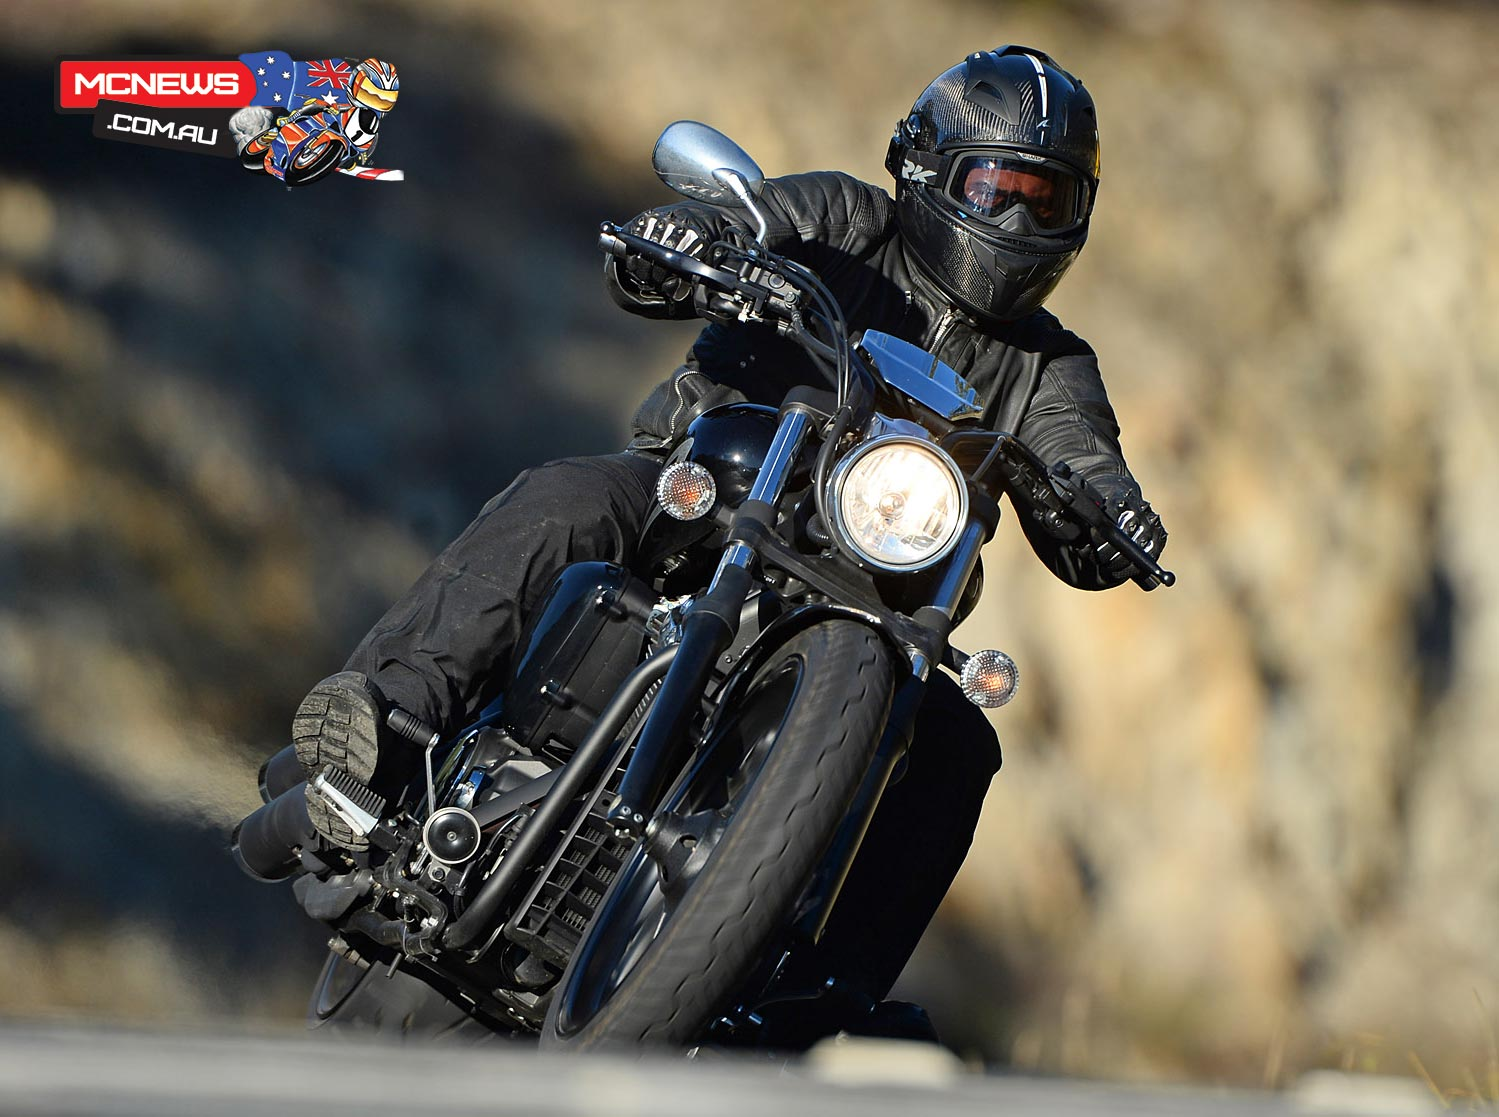helmet: (837, 45, 1131, 325)
